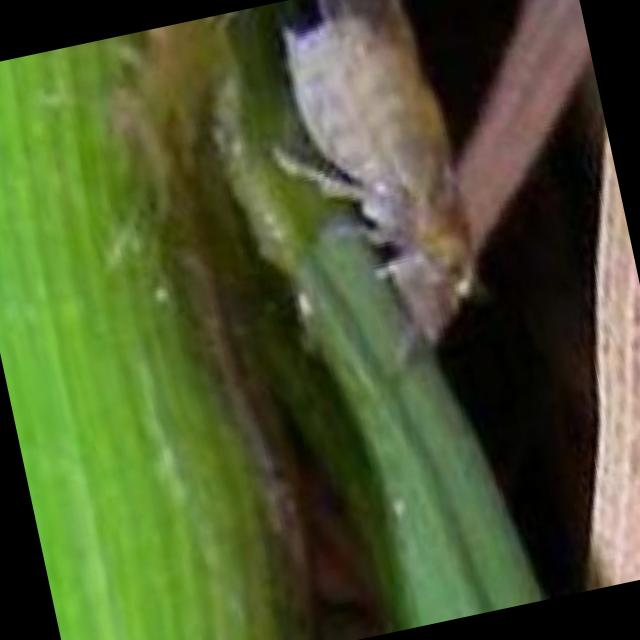brown-planthopper: (272, 0, 497, 348)
